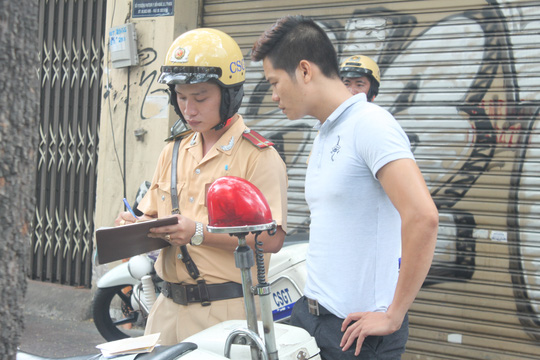police: (120, 34, 290, 325)
